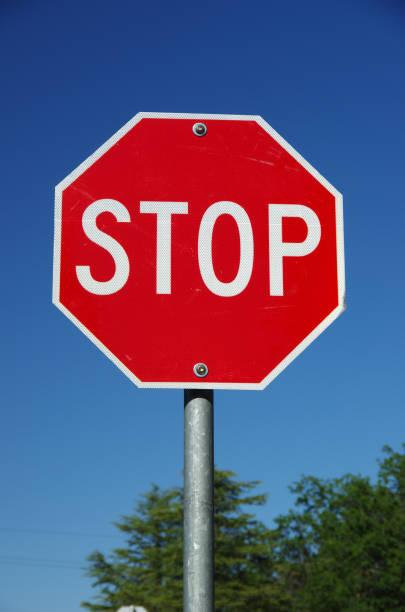Pole: (182, 391, 217, 609)
Sign: (54, 112, 345, 388)
